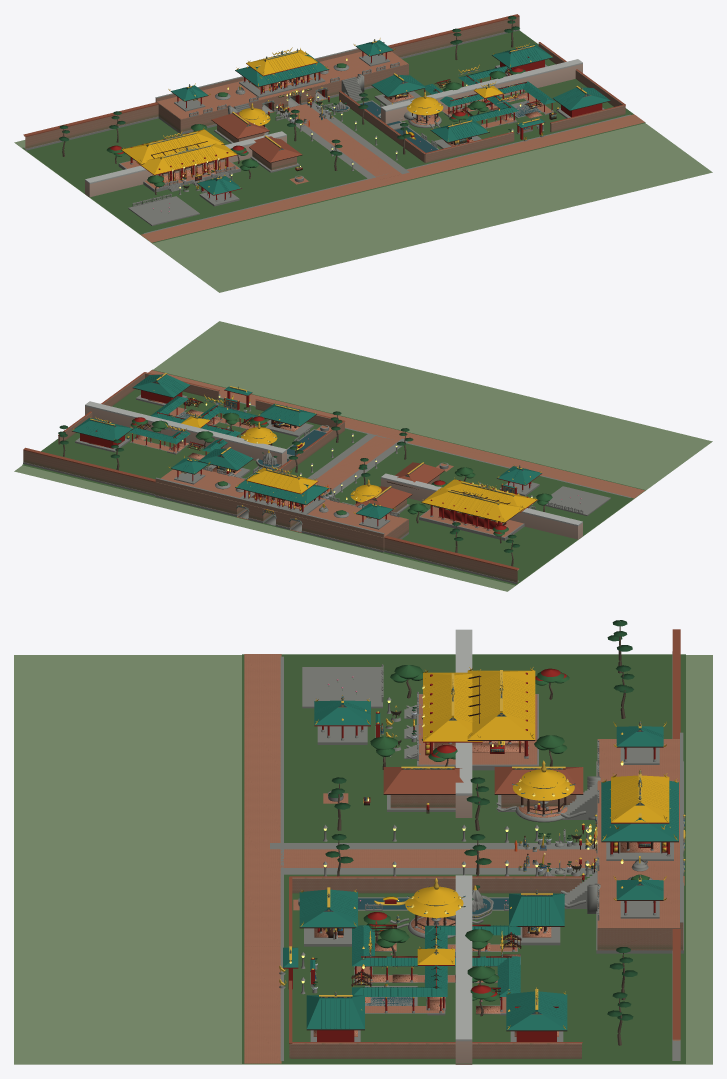
Rendered from T16_cua_hoa_binh_vuon_thieu_phuong.glb.
3 views of the same model, one above another, from view 1: azimuth 30°, elevation 25°; view 2: azimuth 150°, elevation 25°; view 3: azimuth 270°, elevation 25° (orthographic). The views are drawn at different scales.
Parts seen in each view (by area): view 1: T16_Base_Bastion_Walls, T16_V2_Satellite_Seamless_Base, T16_East_ThieuPhuongGarden, T16_West_Compound, T16_VongLau_Pavilion, V07_LauBatGiac_NhanThanhBatBieu_ThieuPhuong; view 2: T16_V2_Satellite_Seamless_Base, T16_Base_Bastion_Walls, T16_East_ThieuPhuongGarden, T16_West_Compound, T16_VongLau_Pavilion, V07_LauBatGiac_NhanThanhBatBieu_ThieuPhuong; view 3: T16_V2_Satellite_Seamless_Base, T16_Base_Bastion_Walls, T16_East_ThieuPhuongGarden, T16_West_Compound, T16_VongLau_Pavilion, V07_LauBatGiac_MinhDatTuThong_TayBac, V07_LauBatGiac_NhanThanhBatBieu_ThieuPhuong.
Boxes of the visible parts, x1,y1,x2,y2 form: T16_Base_Bastion_Walls: (22, 14, 645, 243); T16_V2_Satellite_Seamless_Base: (14, 59, 712, 292); T16_East_ThieuPhuongGarden: (339, 42, 625, 162); T16_West_Compound: (118, 111, 308, 225); T16_VongLau_Pavilion: (171, 40, 393, 111); V07_LauBatGiac_NhanThanhBatBieu_ThieuPhuong: (406, 92, 443, 127); T16_V2_Satellite_Seamless_Base: (14, 321, 712, 591); T16_Base_Bastion_Walls: (22, 369, 645, 585); T16_East_ThieuPhuongGarden: (58, 372, 344, 478); T16_West_Compound: (316, 425, 610, 540); T16_VongLau_Pavilion: (170, 458, 393, 529); V07_LauBatGiac_NhanThanhBatBieu_ThieuPhuong: (241, 422, 277, 445); T16_V2_Satellite_Seamless_Base: (14, 629, 712, 1064); T16_Base_Bastion_Walls: (242, 629, 685, 1063); T16_East_ThieuPhuongGarden: (283, 876, 582, 1058); T16_West_Compound: (293, 667, 583, 910); T16_VongLau_Pavilion: (594, 725, 685, 918); V07_LauBatGiac_MinhDatTuThong_TayBac: (512, 760, 575, 822); V07_LauBatGiac_NhanThanhBatBieu_ThieuPhuong: (405, 878, 465, 938).
Bounding box in the file's own units: 140 × 13.13 × 101.
24 materials, 3 textured.
